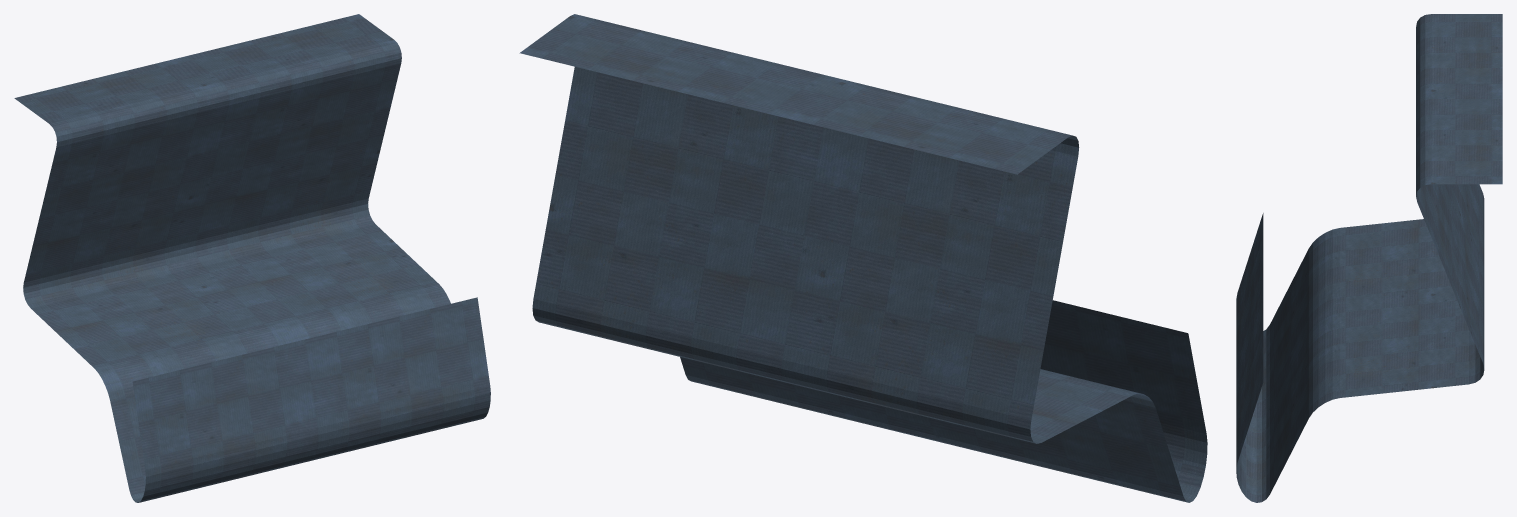
Rendered from loomfabric2.glb.
3 views of the same model, side by side, from view 1: azimuth 30°, elevation 25°; view 2: azimuth 150°, elevation 25°; view 3: azimuth 270°, elevation 25° (orthographic). The views are drawn at different scales.
Visible parts, largest first — view 1: Plane.029; view 2: Plane.029; view 3: Plane.029.
Part boxes in pixels (box(x1,y1,x2,y2)): Plane.029: box(14, 14, 490, 502); Plane.029: box(519, 14, 1207, 502); Plane.029: box(1236, 14, 1502, 502).
Bounding box in the file's own units: 1.84 × 1.6 × 1.21.
1 material, 1 textured.
